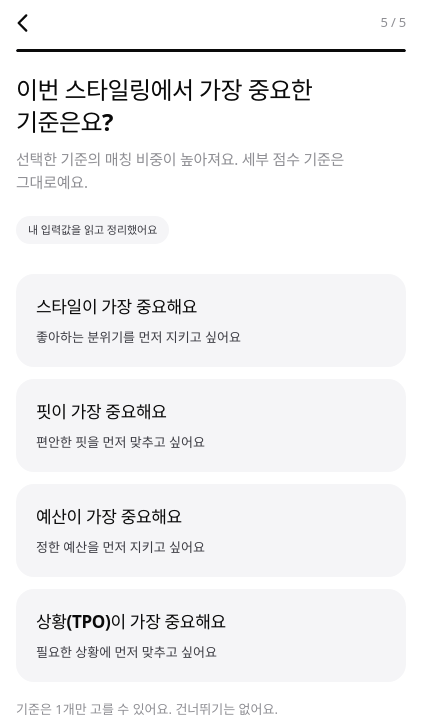
Test: user feature screens › requires one generated priority option before Style DNA progress
Step 1. Click the radio button labelled "좋아하는 분위기를 먼저 지키고 싶어요" → (117, 307), box [16,274,406,367]
(page scrolled)
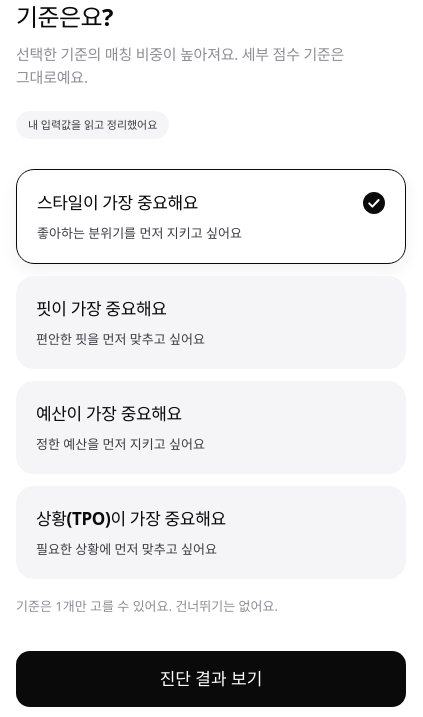
Now the button "진단 결과 보기" is enabled, box [16,651,406,707]
